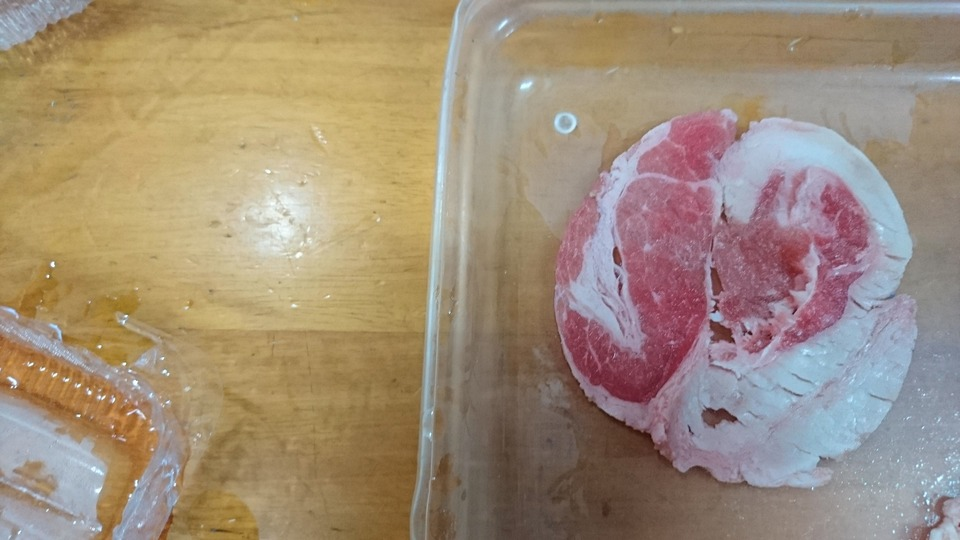restructured meat: (551, 108, 916, 495)
